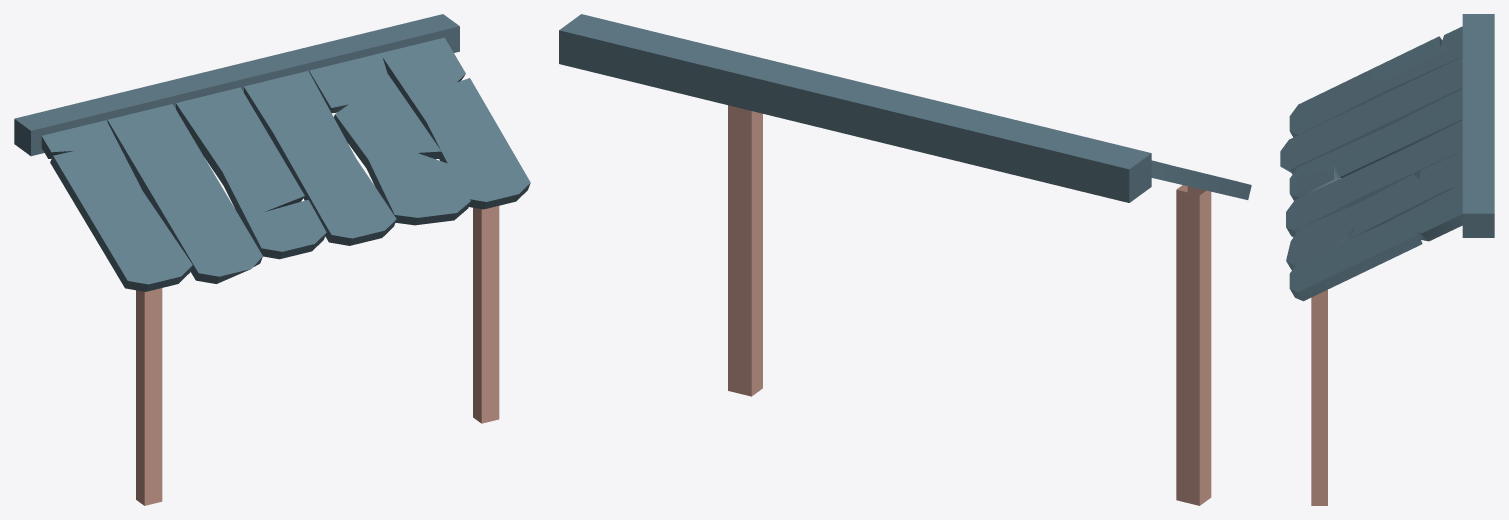
File: Building_Canopy_001.glb
The picture shows the model from 3 angles, left to right: view 1: azimuth 30°, elevation 25°; view 2: azimuth 150°, elevation 25°; view 3: azimuth 270°, elevation 25°; orthographic projection. The views are drawn at different scales.
Visible parts, largest first — view 1: Building_Canopy_001; view 2: Building_Canopy_001; view 3: Building_Canopy_001.
Boxes of the visible parts, bbox=[...] form: Building_Canopy_001: bbox=[14, 14, 530, 505]; Building_Canopy_001: bbox=[559, 14, 1251, 505]; Building_Canopy_001: bbox=[1280, 14, 1494, 505].
Bounding box in the file's own units: 7.54 × 5.47 × 3.42.
1 material, 1 textured.
